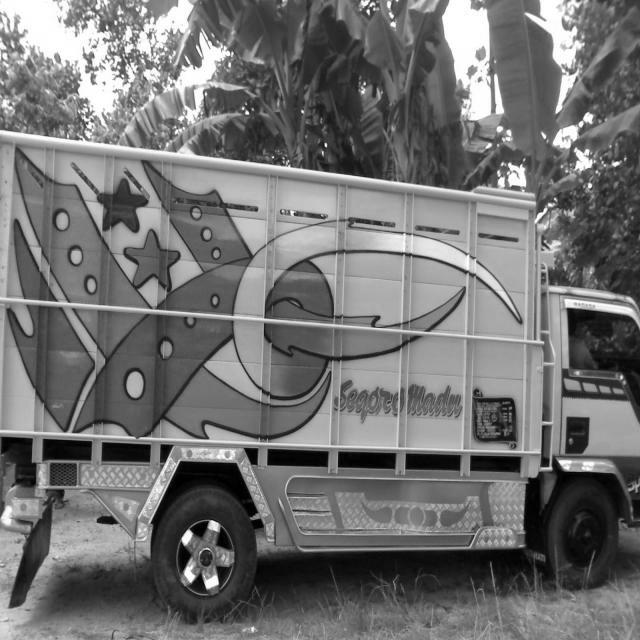truck: (525, 251, 640, 545)
